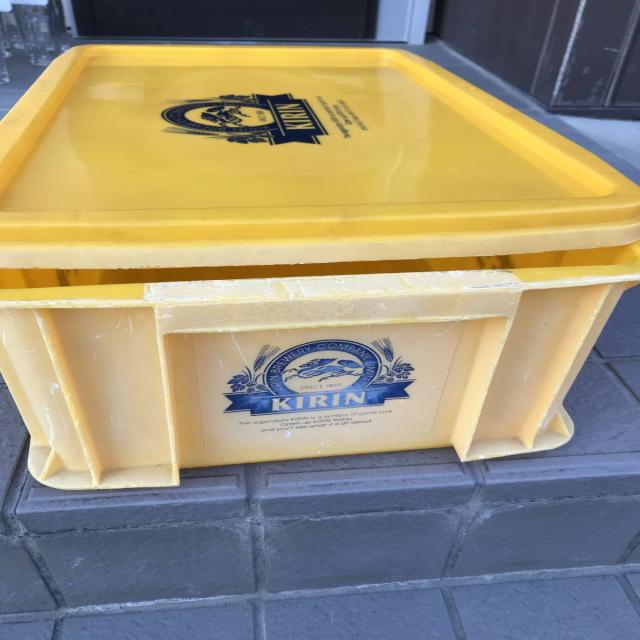plastic: (5, 42, 640, 487)
